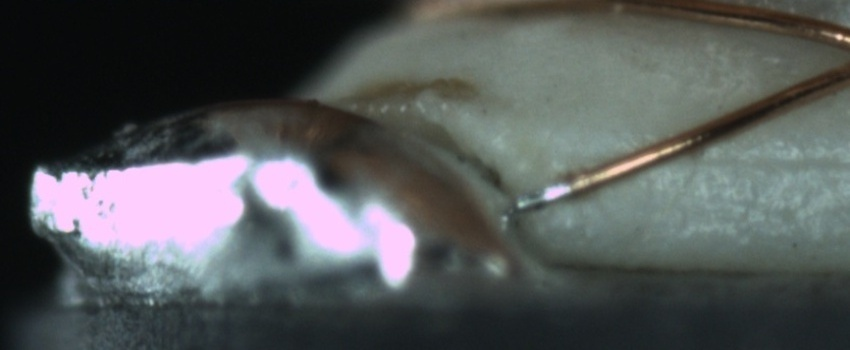CL: (832, 30, 850, 82)
DL: (638, 129, 849, 188)
TS: (513, 180, 572, 214)
